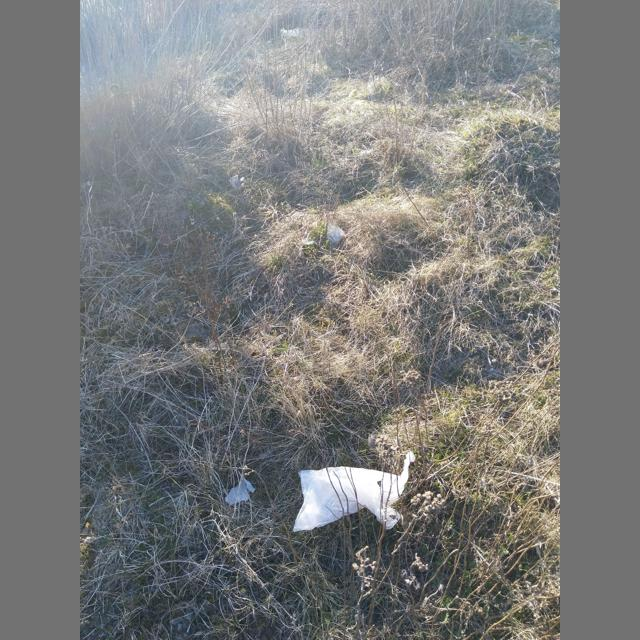litter: (293, 450, 415, 532), (225, 475, 254, 504), (326, 215, 345, 245), (228, 174, 248, 189), (282, 27, 305, 36)
